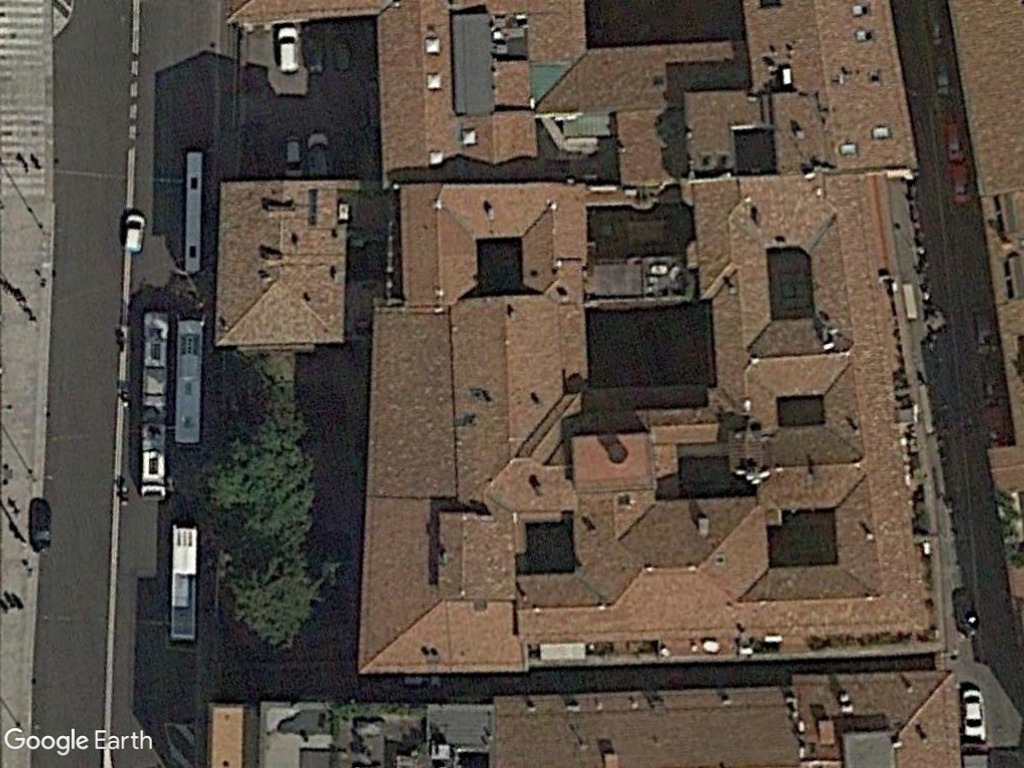bus: (136, 305, 172, 502), (164, 518, 203, 645), (170, 316, 206, 449)
car: (956, 683, 990, 745), (272, 23, 304, 76), (121, 210, 150, 254)
